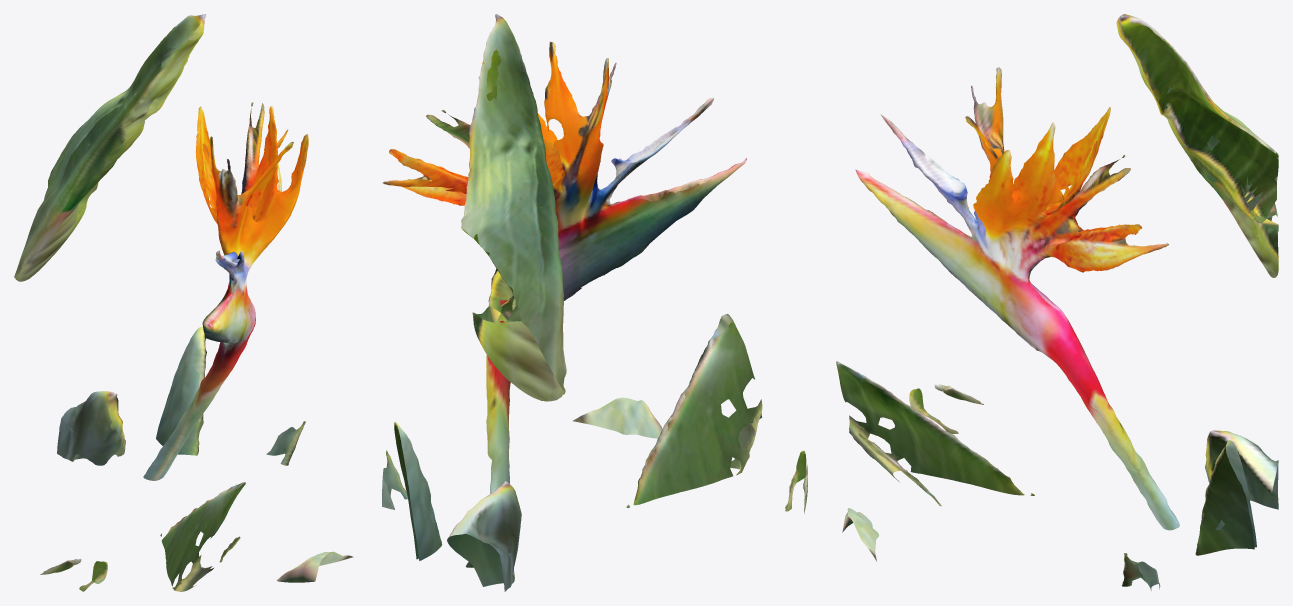
Rendered from bird-of-paradise.glb.
3 views of the same model, side by side, from view 1: azimuth 30°, elevation 25°; view 2: azimuth 150°, elevation 25°; view 3: azimuth 270°, elevation 25° (orthographic). The views are drawn at different scales.
Parts seen in each view (by area): view 1: Object_2; view 2: Object_2; view 3: Object_2.
Part boxes in pixels (<box>): Object_2: <box>14,14,353,591</box>; Object_2: <box>382,14,807,591</box>; Object_2: <box>836,14,1278,590</box>.
Bounding box in the file's own units: 0.2413 × 0.3313 × 0.2531.
1 material, 1 textured.
